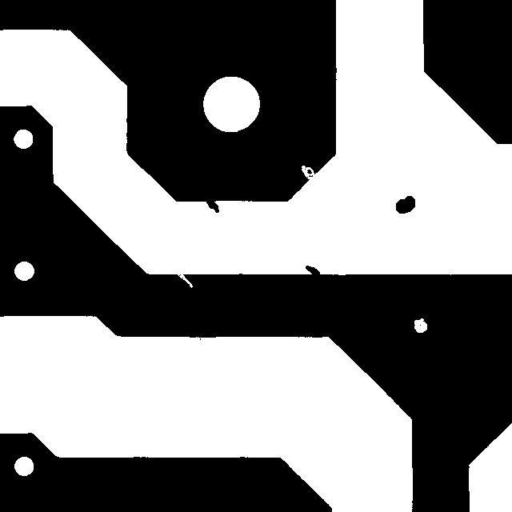copper: (388, 188, 422, 221)
mousebite: (169, 263, 200, 295), (294, 158, 322, 186)
pin-hole: (406, 310, 434, 340)
spur: (198, 191, 226, 220), (298, 258, 327, 283)
